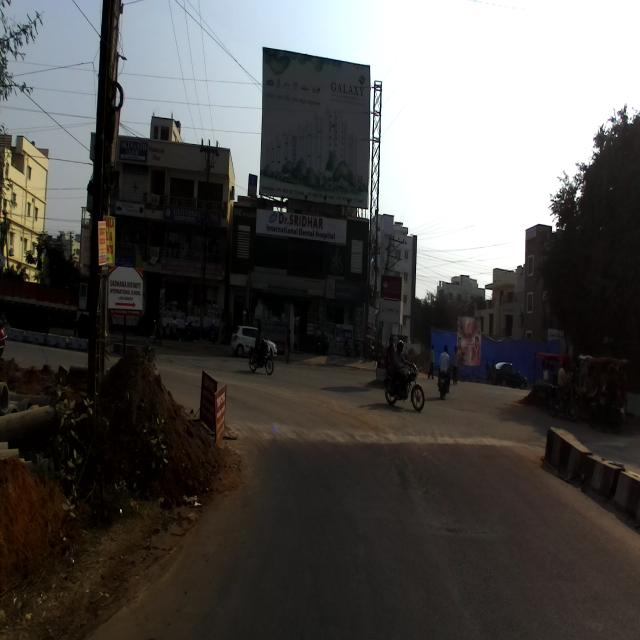electric pole ahead at: (88, 0, 125, 389)
